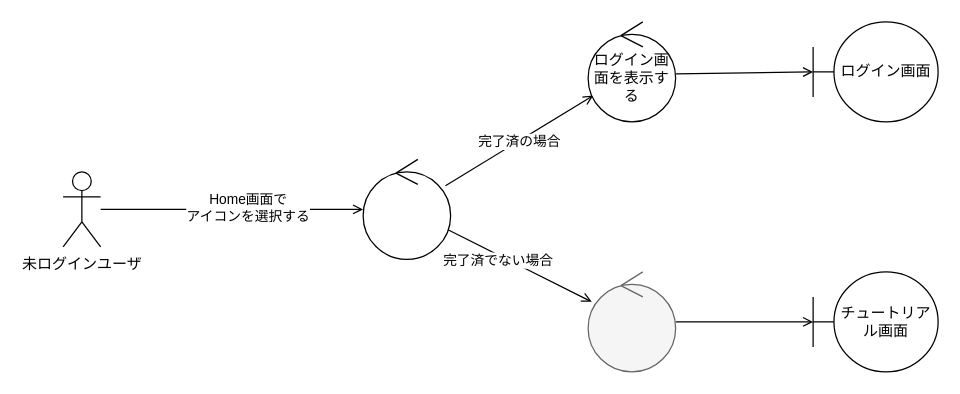
This 960x394 diagram has some shape labels left out. Each missing label, with the centre of its shape:
"チュートリアル完了済か確認する" belongs at (x=406, y=208).
"チュートリアル画面を表示する" belongs at (x=631, y=321).
